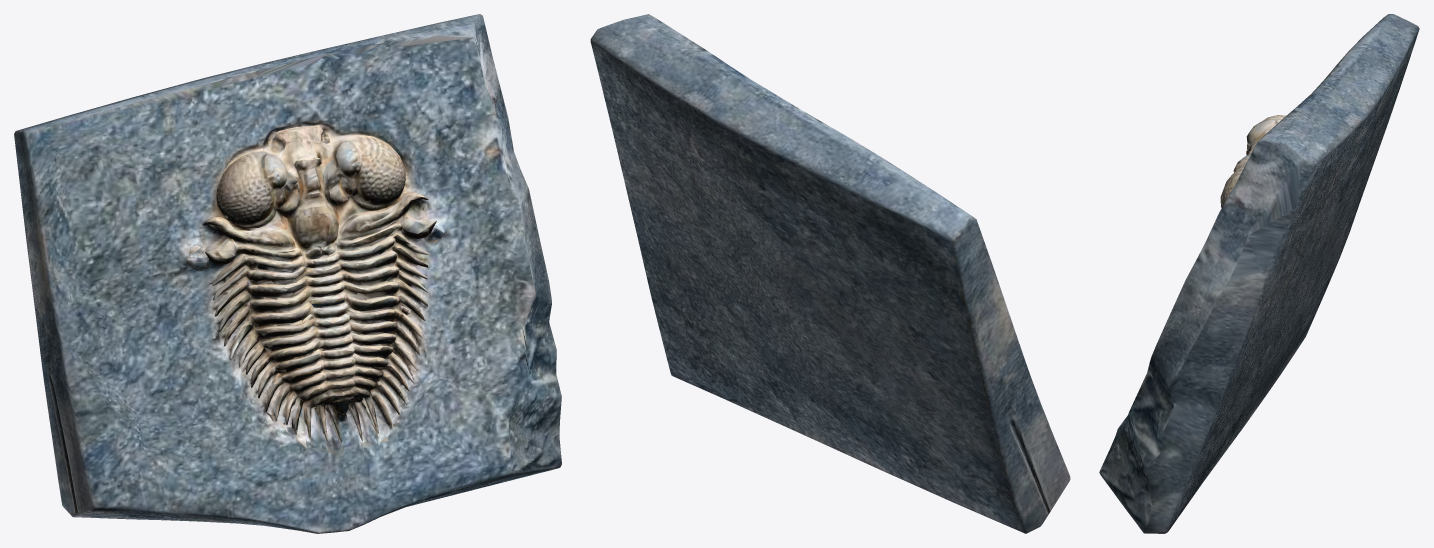
The model's file is trilobite.glb.
The picture shows the model from 3 angles, left to right: view 1: azimuth 30°, elevation 25°; view 2: azimuth 150°, elevation 25°; view 3: azimuth 270°, elevation 25°; orthographic projection. The views are drawn at different scales.
Parts seen in each view (by area): view 1: trilobite; view 2: trilobite; view 3: trilobite.
Boxes of the visible parts, <box> form: trilobite: <box>14,14,561,533</box>; trilobite: <box>590,14,1070,533</box>; trilobite: <box>1099,14,1419,533</box>.
Bounding box in the file's own units: 1 × 0.8899 × 0.672.
Materials: 1 (1 with a texture image).
